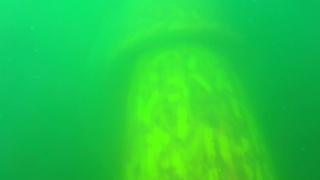pipe: (114, 1, 278, 179)
